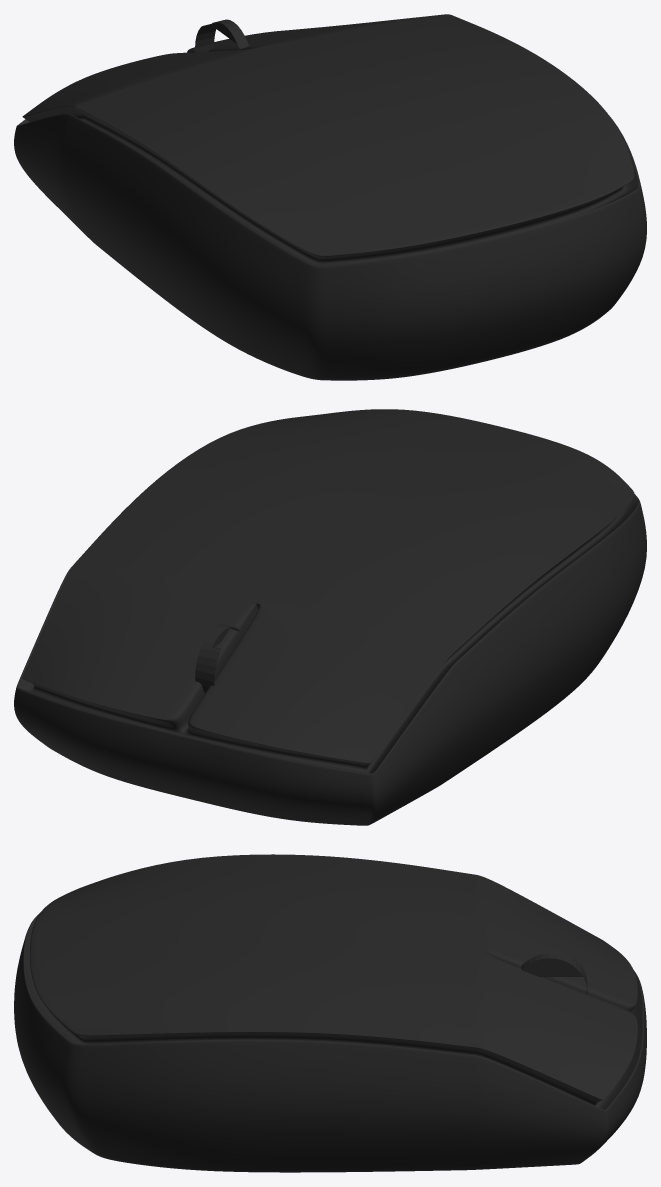
File: Mouse.fbx
The picture shows the model from 3 angles, top to bottom: view 1: azimuth 30°, elevation 25°; view 2: azimuth 150°, elevation 25°; view 3: azimuth 270°, elevation 25°; orthographic projection. The views are drawn at different scales.
Visible parts, largest first — view 1: Mouse; view 2: Mouse; view 3: Mouse.
Part boxes in pixels (x1,y1,x2,y2): Mouse: [14, 14, 646, 380]; Mouse: [14, 409, 646, 825]; Mouse: [14, 854, 646, 1172].
Size of the model in its own units: 24.59 by 9.54 by 34.33.
